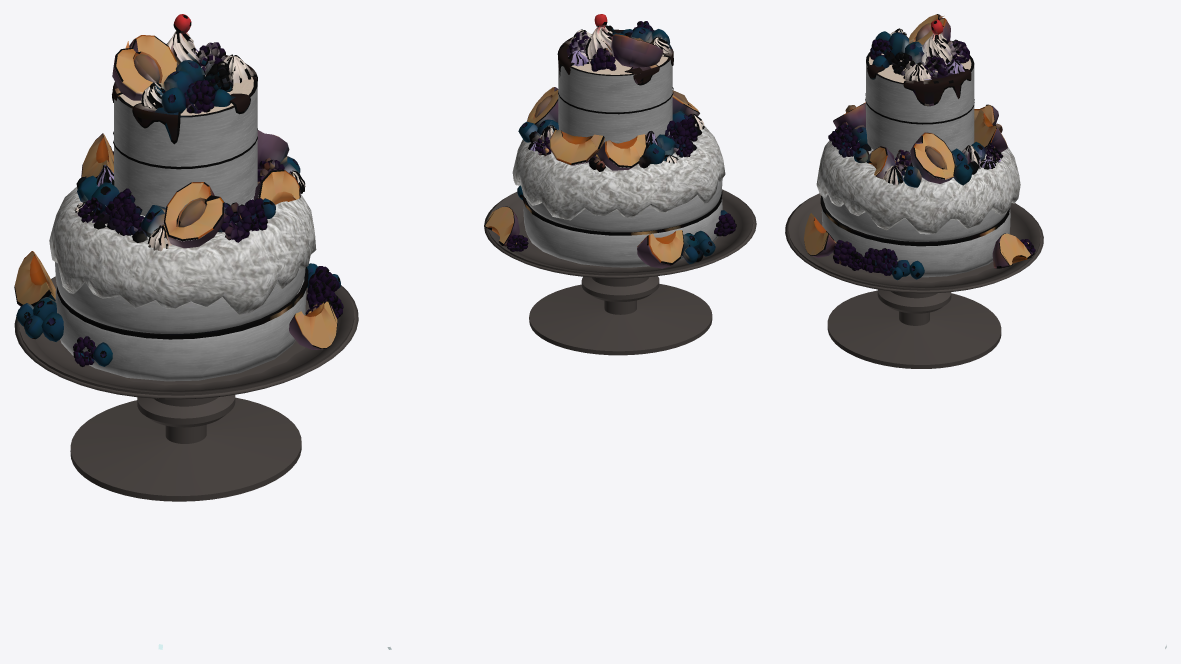
The model's file is FRUITC.glb.
3 renders of one model, left to right at view 1: azimuth 30°, elevation 25°; view 2: azimuth 150°, elevation 25°; view 3: azimuth 270°, elevation 25°, orthographic. The views are drawn at different scales.
Visible parts, largest first — view 1: BREADBAKE.001; view 2: BREADBAKE.001; view 3: BREADBAKE.001.
Part boxes in pixels (box(x1,y1,x2,y2)): BREADBAKE.001: box(14, 14, 358, 649); BREADBAKE.001: box(387, 14, 756, 649); BREADBAKE.001: box(785, 14, 1166, 648).
Size of the model in its own units: 0.1289 by 0.3084 by 0.1837.
4 materials, 3 textured.
